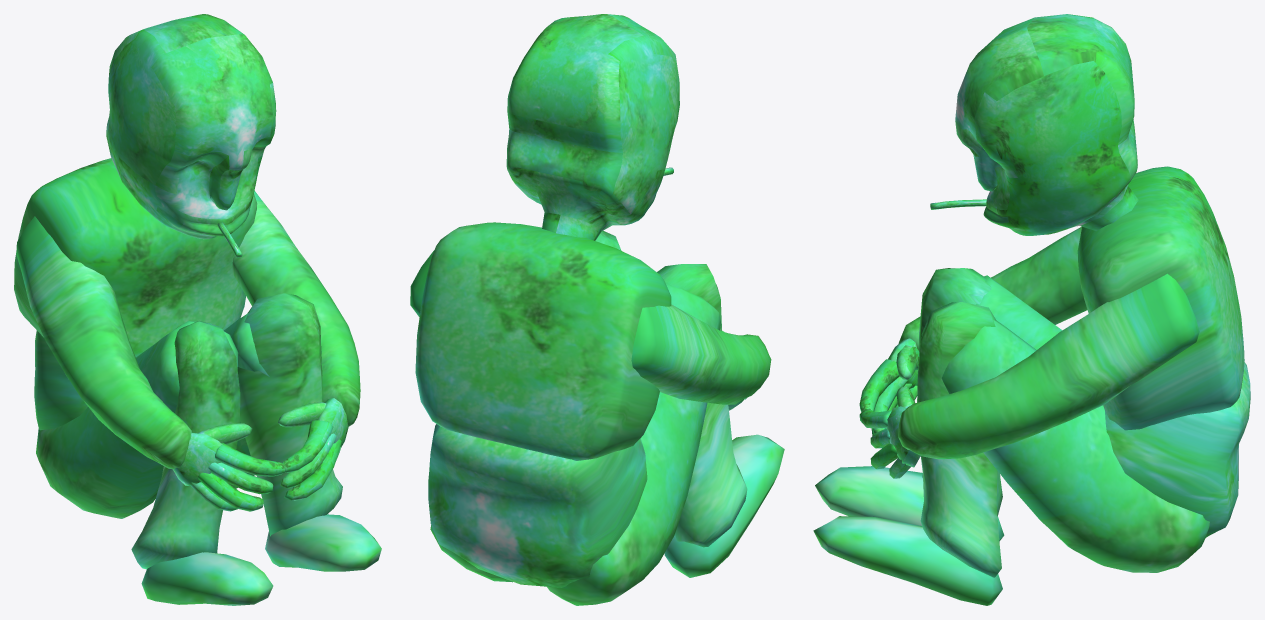
The model's file is Dragonfly_Xanthate_Aboubi_Floating_Foetal_Position.fbx.
3 views of the same model, side by side, from view 1: azimuth 30°, elevation 25°; view 2: azimuth 150°, elevation 25°; view 3: azimuth 270°, elevation 25° (orthographic). The views are drawn at different scales.
Visible parts, largest first — view 1: FoetalAboubi; view 2: FoetalAboubi; view 3: FoetalAboubi.
Boxes of the visible parts, bbox=[...] form: FoetalAboubi: bbox=[14, 14, 381, 605]; FoetalAboubi: bbox=[410, 14, 784, 605]; FoetalAboubi: bbox=[813, 14, 1250, 605].
Bounding box in the file's own units: 0.5879 × 1.13 × 0.8077.
